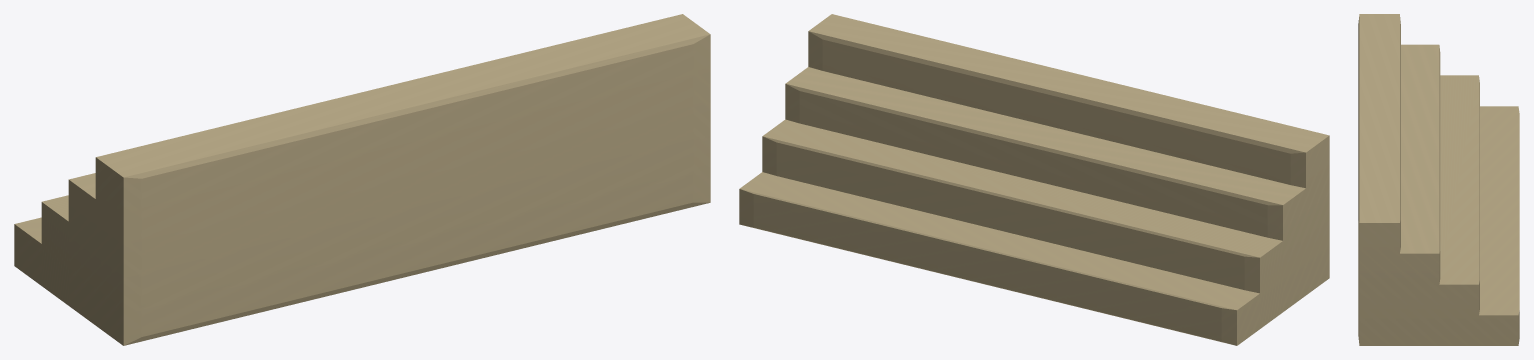
The model's file is SM_WC_Stairs.fbx.
3 views of the same model, side by side, from view 1: azimuth 30°, elevation 25°; view 2: azimuth 150°, elevation 25°; view 3: azimuth 270°, elevation 25° (orthographic). The views are drawn at different scales.
Visible parts, largest first — view 1: SM_WC_Stairs; view 2: SM_WC_Stairs; view 3: SM_WC_Stairs.
Boxes of the visible parts, left/top/right/bottom form: SM_WC_Stairs: left=14, top=14, right=710, bottom=345; SM_WC_Stairs: left=739, top=14, right=1329, bottom=345; SM_WC_Stairs: left=1358, top=14, right=1519, bottom=345.
Size of the model in its own units: 3.5 by 1.14 by 0.96.
